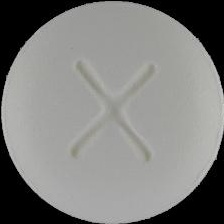16714-300: (0, 0, 224, 224)
